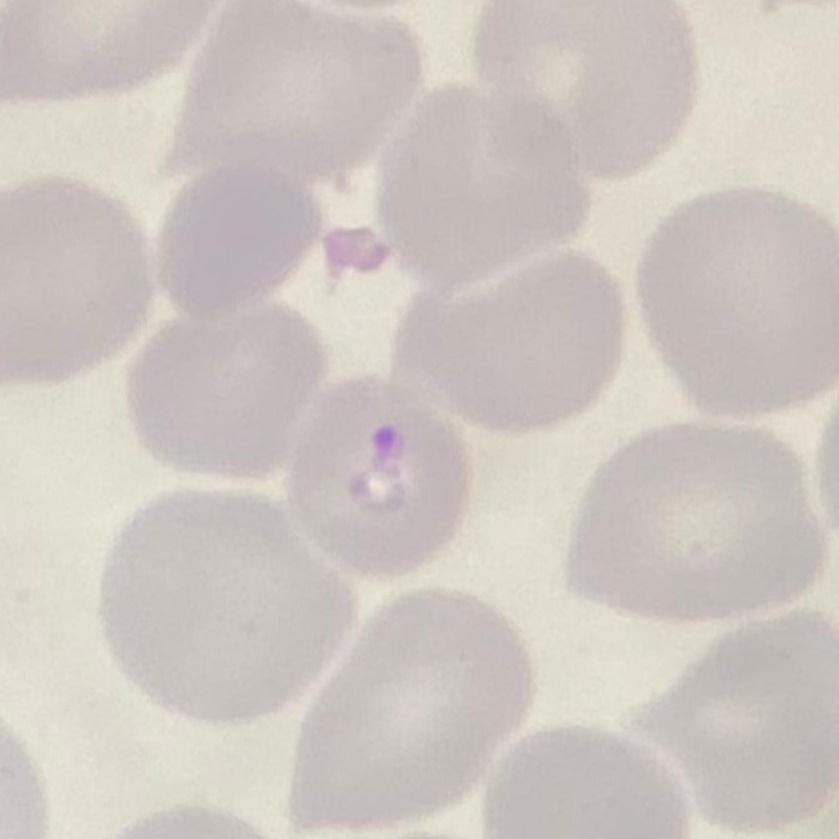Infected: (285, 377, 473, 575)
Uninfected: (288, 585, 538, 829), (102, 485, 357, 720), (565, 420, 826, 620), (157, 9, 418, 192), (630, 607, 839, 828), (638, 190, 839, 418), (375, 80, 594, 287), (392, 245, 630, 431), (472, 0, 698, 178), (125, 295, 327, 476), (0, 177, 157, 386), (155, 162, 321, 328)
